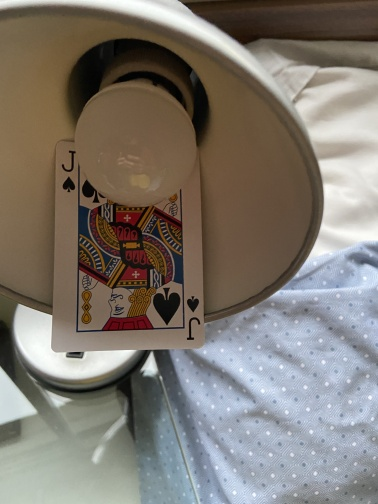jack: (49, 139, 206, 355)
